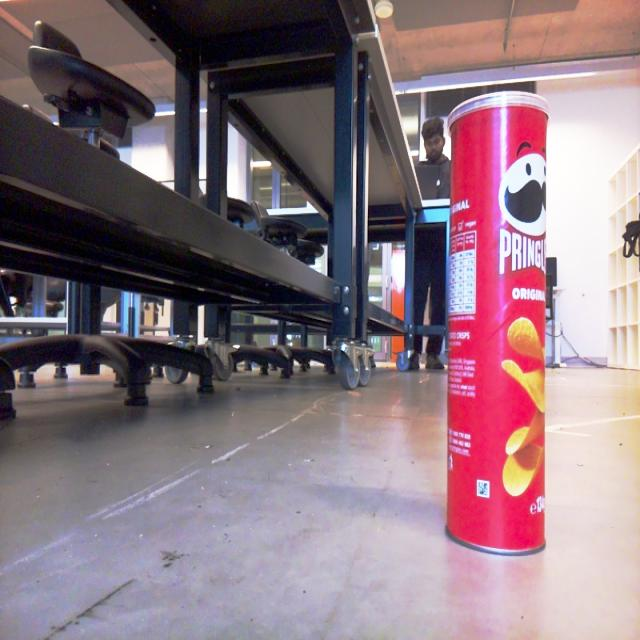redpringles: (440, 83, 559, 563)
